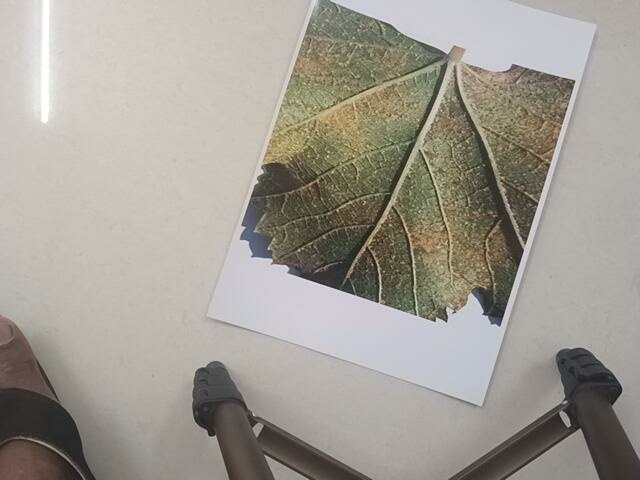Grape_Rust_Fungus: (241, 1, 578, 329)
